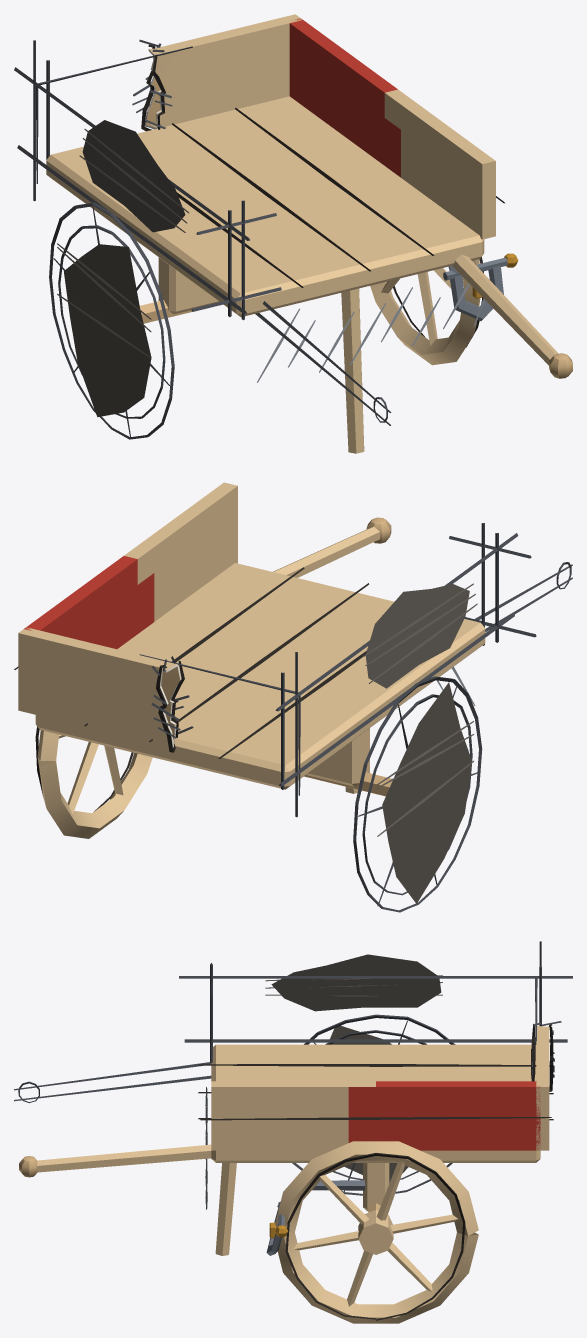
Rendered from Cart.fbx.
3 views of the same model, one above another, from view 1: azimuth 30°, elevation 25°; view 2: azimuth 150°, elevation 25°; view 3: azimuth 270°, elevation 25° (orthographic). The views are drawn at different scales.
Visible parts, largest first — view 1: Frame, Lines, WheelR, WheelL, WheelLock; view 2: Frame, Lines, WheelR, WheelL; view 3: Frame, WheelL, Lines, WheelR, WheelLock.
Boxes of the visible parts, box(x1,y1,x2,y2) form: Frame: box(46, 14, 572, 453); Lines: box(14, 39, 504, 425); WheelR: box(49, 202, 174, 439); WheelL: box(370, 257, 483, 365); WheelLock: box(443, 253, 518, 320); Frame: box(18, 482, 485, 796); Lines: box(14, 523, 572, 817); WheelR: box(353, 676, 482, 912); WheelL: box(35, 726, 152, 838); Frame: box(19, 1026, 549, 1255); WheelL: box(275, 1141, 478, 1323); Lines: box(14, 941, 572, 1209); WheelR: box(292, 1014, 455, 1195); WheelLock: box(266, 1180, 364, 1255).
Bounding box in the file's own units: 1.62 × 1.33 × 2.55.
